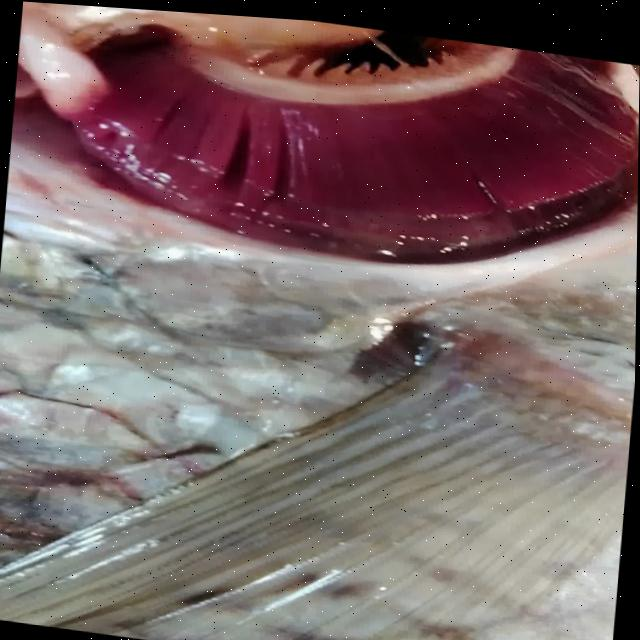Fresh: (15, 1, 640, 303)
